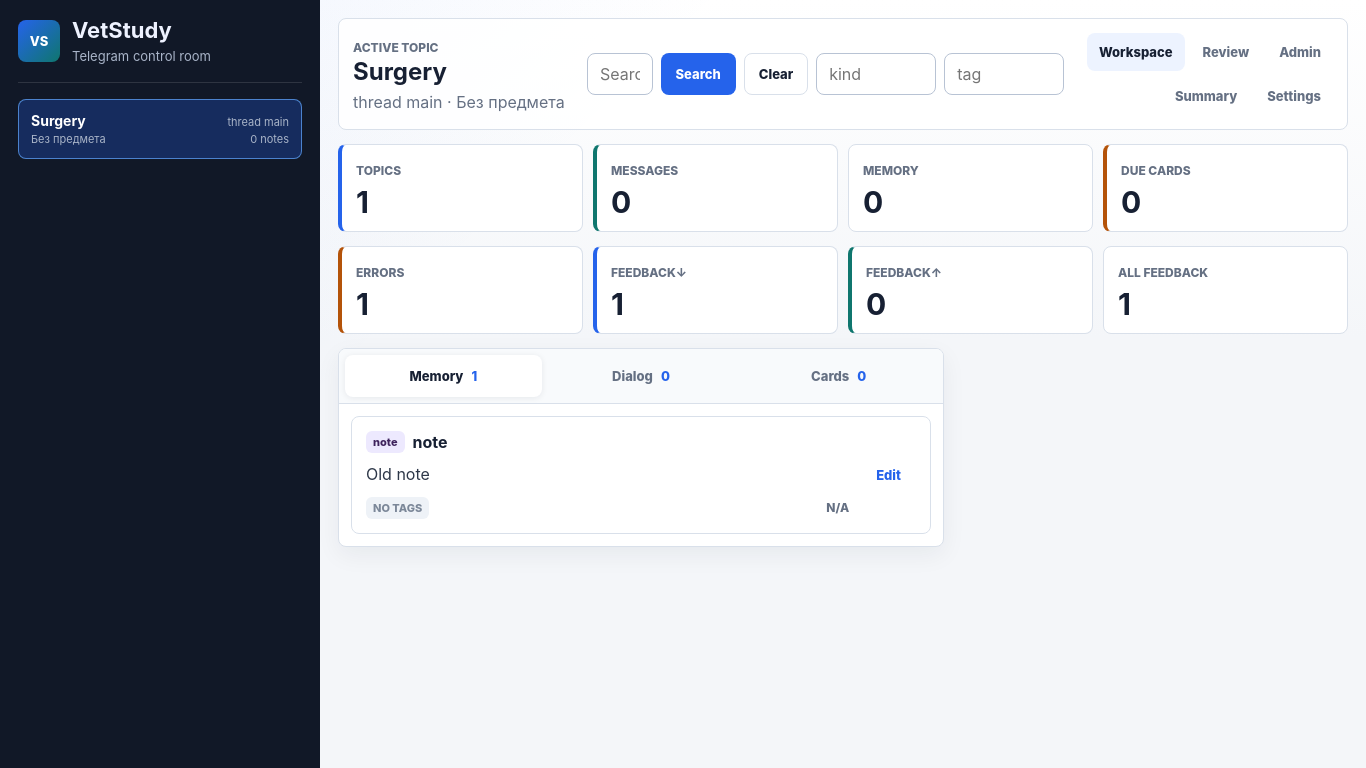
Test case: App › supports search flow
Step 1. Type "Found" into the field with placeholder "Search memory" → (620, 74), box [587,53,652,95]
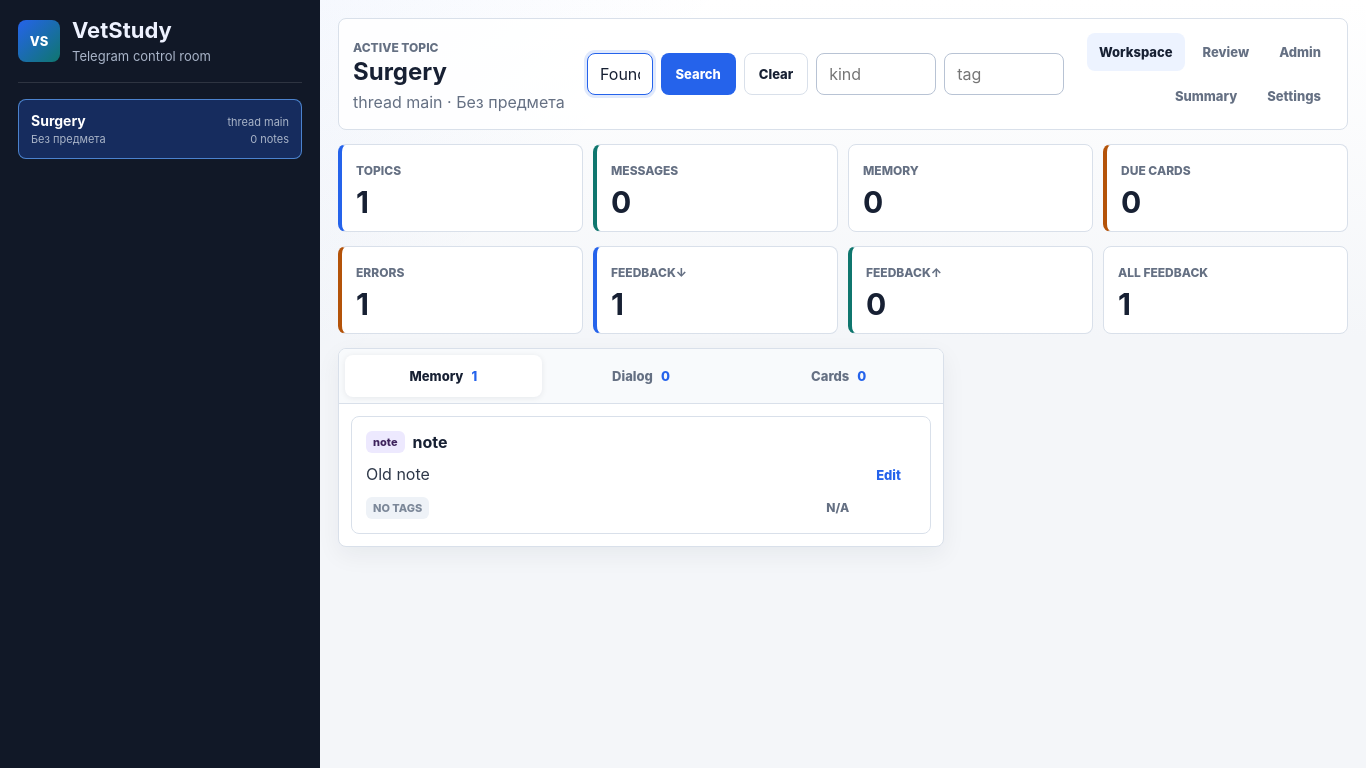
Step 2. Click the button "Search" → (698, 74), box [660,53,736,95]
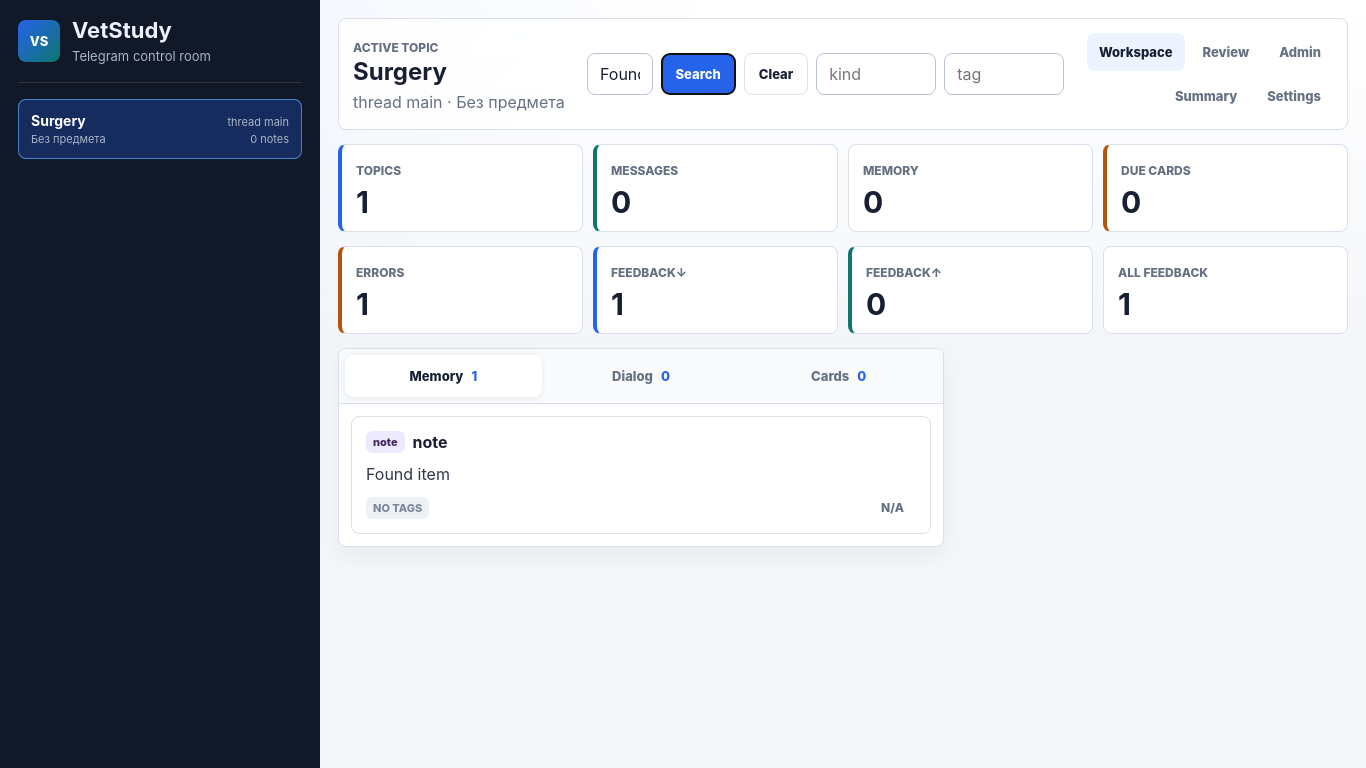
Expected: the text "Found item" is shown, [366,464,450,484]
